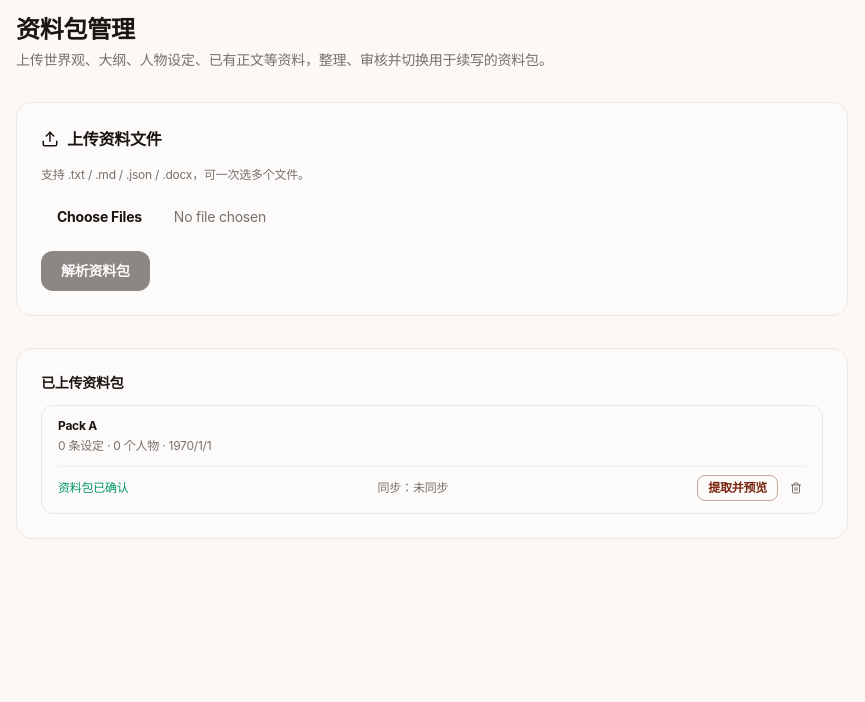
Test: ContinuationPackView partial sync › imports confirmable entities, then keeps unresolved relationships in the repair flow
Click the text "Pack A".
click(78, 426)  # box [58,418,97,433]
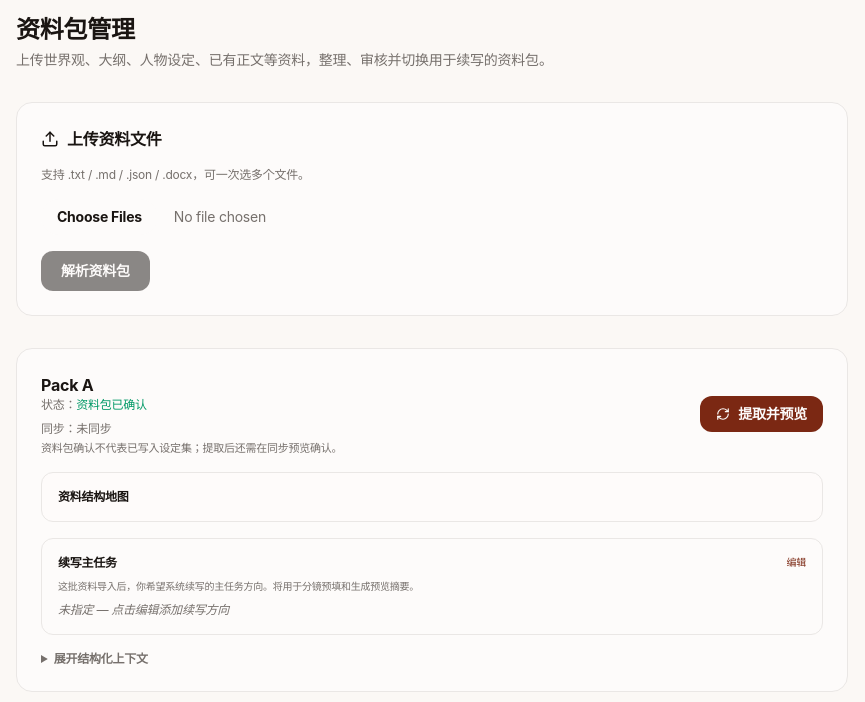
Expected: the text "资料包已确认" is shown, [76,397,147,412]
Expected: the text "资料包确认不代表已写入设定集；提取后还需在同步预览确认。" is shown, [41,441,342,456]
Click the button "提取并预览".
click(762, 414)  # box [700,396,823,432]
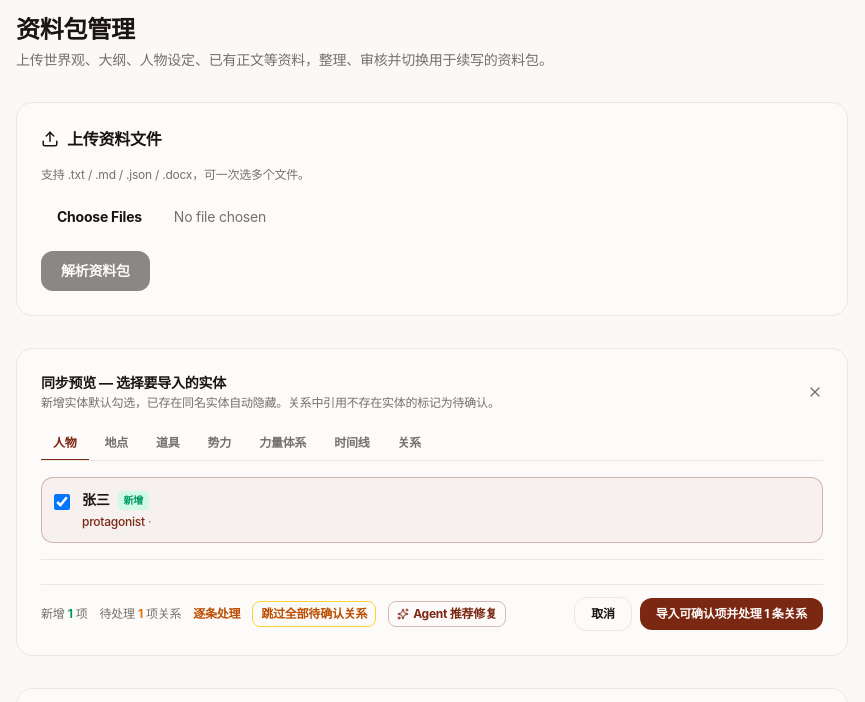
Click the button "导入可确认项并处理 1 条关系".
click(731, 614)  # box [640,598,823,630]
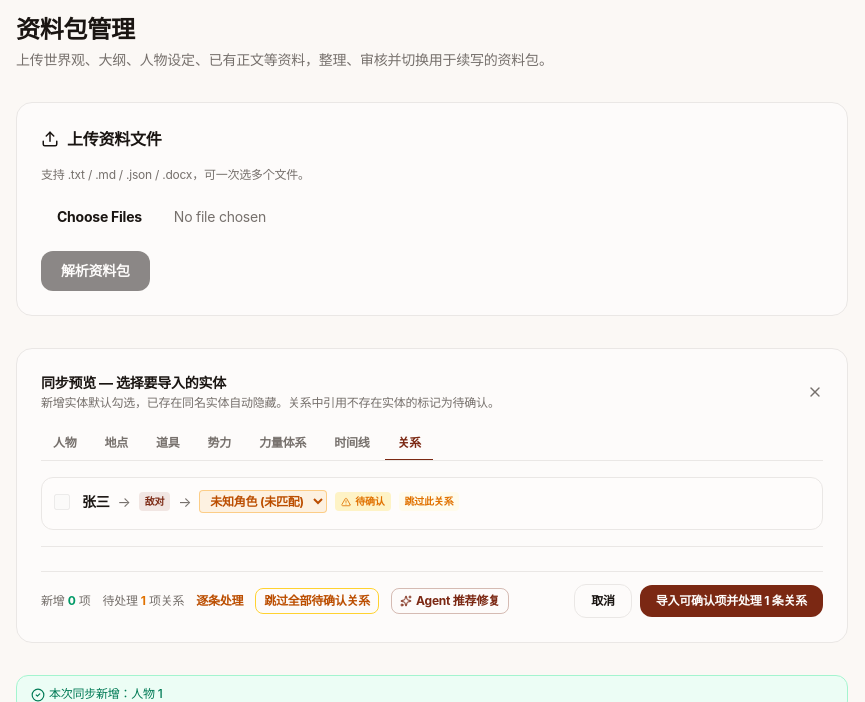
Expected: the text "同步预览 — 选择要导入的实体" is shown, [41,374,226,391]
Expected: the text "待确认" is shown, [335,492,391,511]
